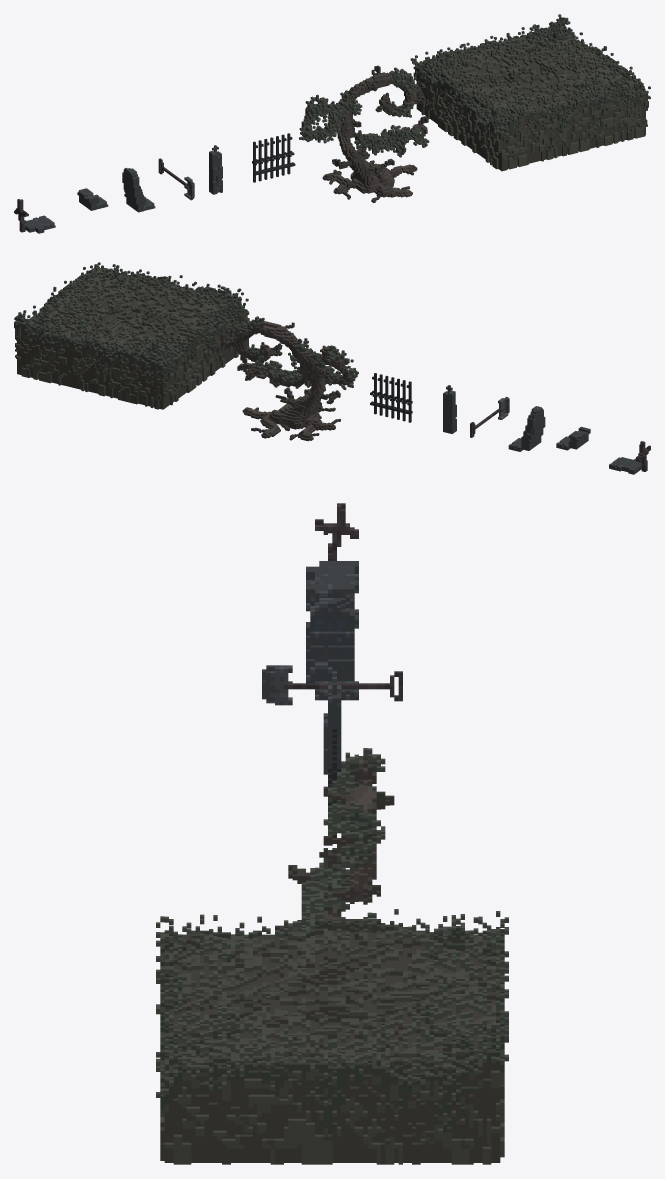
Rendered from graveyard pack.glb.
3 renders of one model, top to bottom at view 1: azimuth 30°, elevation 25°; view 2: azimuth 150°, elevation 25°; view 3: azimuth 270°, elevation 25°, orthographic. The views are drawn at different scales.
Visible parts, largest first — view 1: Ground, Tree, Fence, Tomb1, Tomb3, Pillar, Tomb2, Spade; view 2: Ground, Tree, Fence, Tomb1, Tomb3, Pillar, Tomb2, Spade; view 3: Ground, Tree, Tomb1, Spade, Tomb3, Pillar, Tomb2.
Part boxes in pixels (box(x1,y1,x2,y2)): Ground: box(410, 14, 650, 171); Tree: box(299, 65, 429, 202); Fence: box(252, 133, 295, 182); Tomb1: box(122, 167, 155, 212); Tomb3: box(14, 199, 55, 233); Pillar: box(209, 145, 222, 194); Tomb2: box(77, 188, 108, 210); Spade: box(158, 158, 194, 200); Ground: box(14, 262, 249, 409); Tree: box(220, 316, 358, 441); Fence: box(370, 373, 412, 422); Tomb1: box(508, 406, 545, 451); Tomb3: box(609, 441, 650, 474); Pillar: box(443, 385, 456, 433); Tomb2: box(556, 426, 590, 450); Spade: box(470, 396, 509, 437); Ground: box(156, 909, 508, 1164); Tree: box(275, 748, 394, 932); Tomb1: box(306, 598, 358, 700); Spade: box(262, 665, 402, 705); Tomb3: box(306, 503, 358, 593); Pillar: box(323, 677, 341, 774); Tomb2: box(306, 580, 358, 628).
Bounding box in the file's own units: 30.71 × 5.1 × 8.
Materials: 8 (8 with a texture image).
